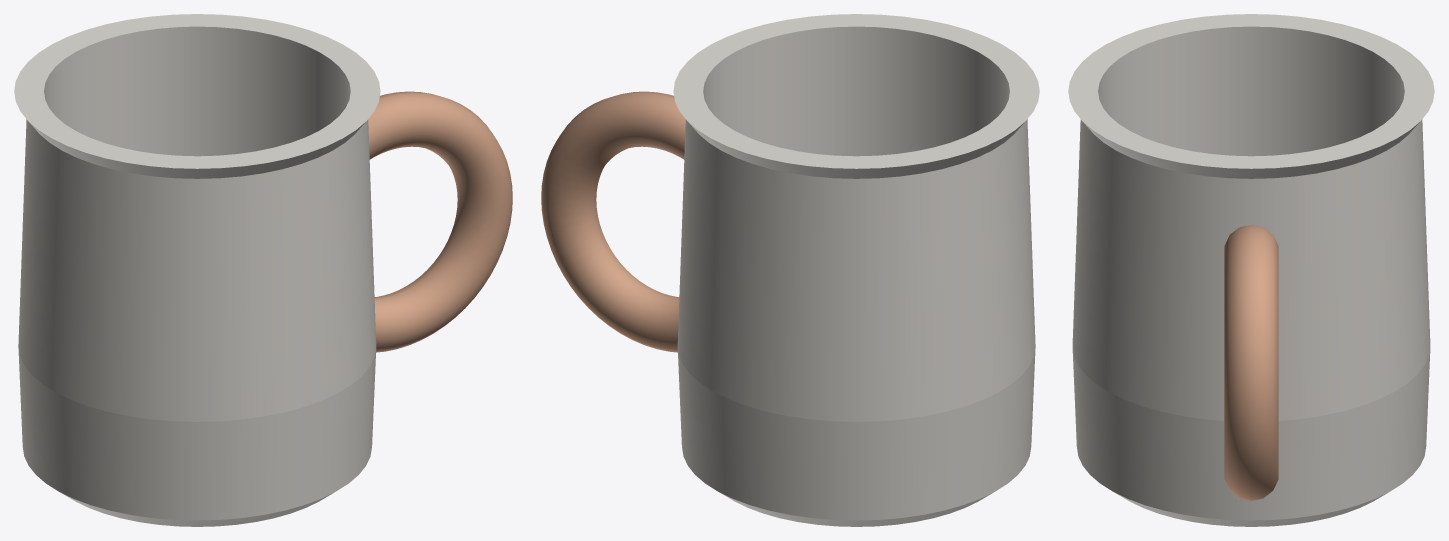
The model's file is caneca.glb.
3 renders of one model, left to right at view 1: azimuth 30°, elevation 25°; view 2: azimuth 150°, elevation 25°; view 3: azimuth 270°, elevation 25°, orthographic.
Parts seen in each view (by area): view 1: caneca; view 2: caneca; view 3: caneca.
Part boxes in pixels (x1,y1,x2,y2): caneca: [14, 14, 512, 526]; caneca: [541, 14, 1039, 526]; caneca: [1068, 14, 1434, 526].
Size of the model in its own units: 0.1275 by 0.096 by 0.086.
